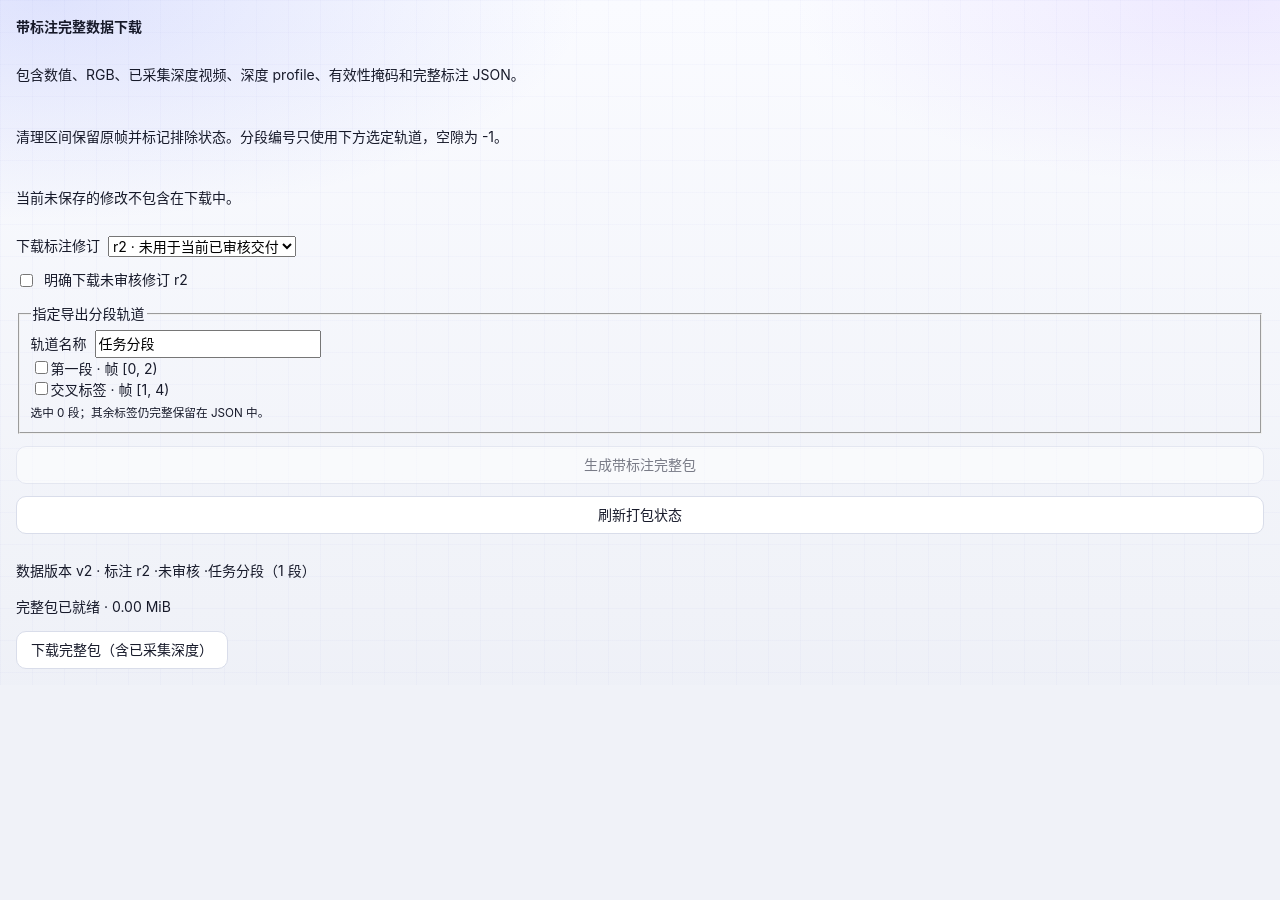
Test: rejects overlap only within the chosen track
The image size is (1280, 900).
Step 1. Click the checkbox labelled "明确下载未审核修订 r2" → (26, 280), box [20,274,33,286]
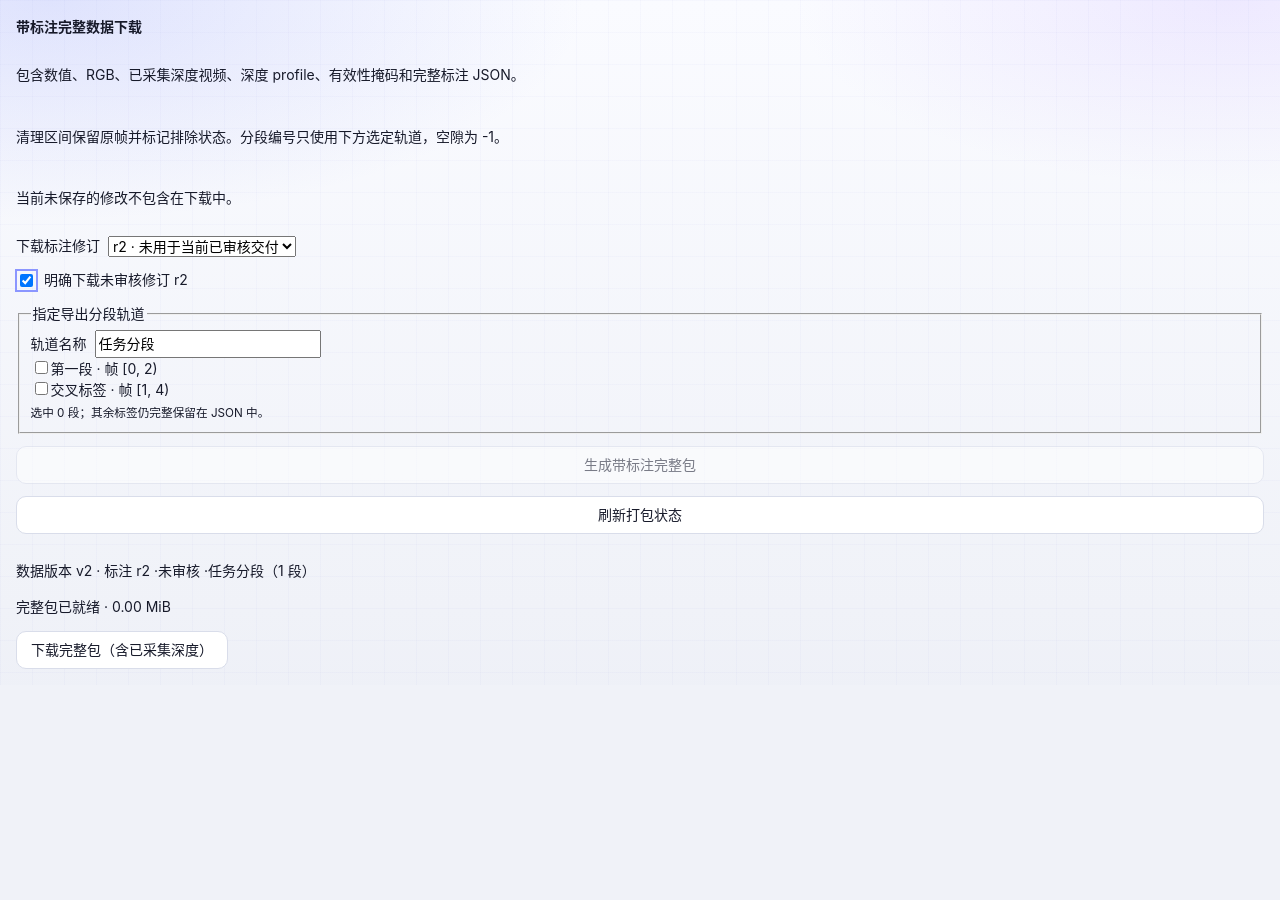
Step 2. Click the checkbox labelled "第一段 · 帧 [0, 2)" → (41, 367), box [34,360,48,374]
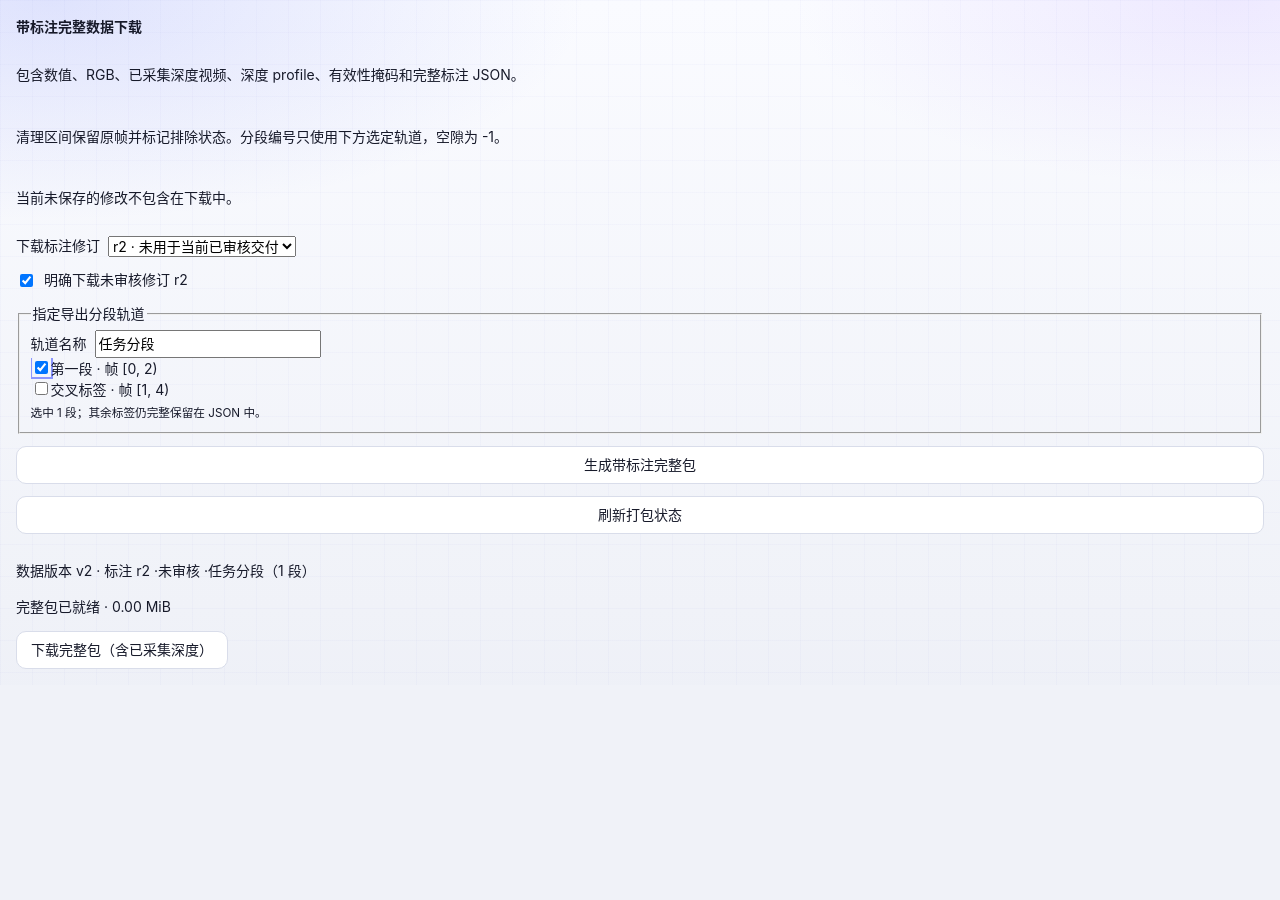
Now the button "生成带标注完整包" is enabled, box [16,446,1264,484]
Step 3. Click the checkbox labelled "交叉标签 · 帧 [1, 4)" → (41, 389), box [34,382,48,395]
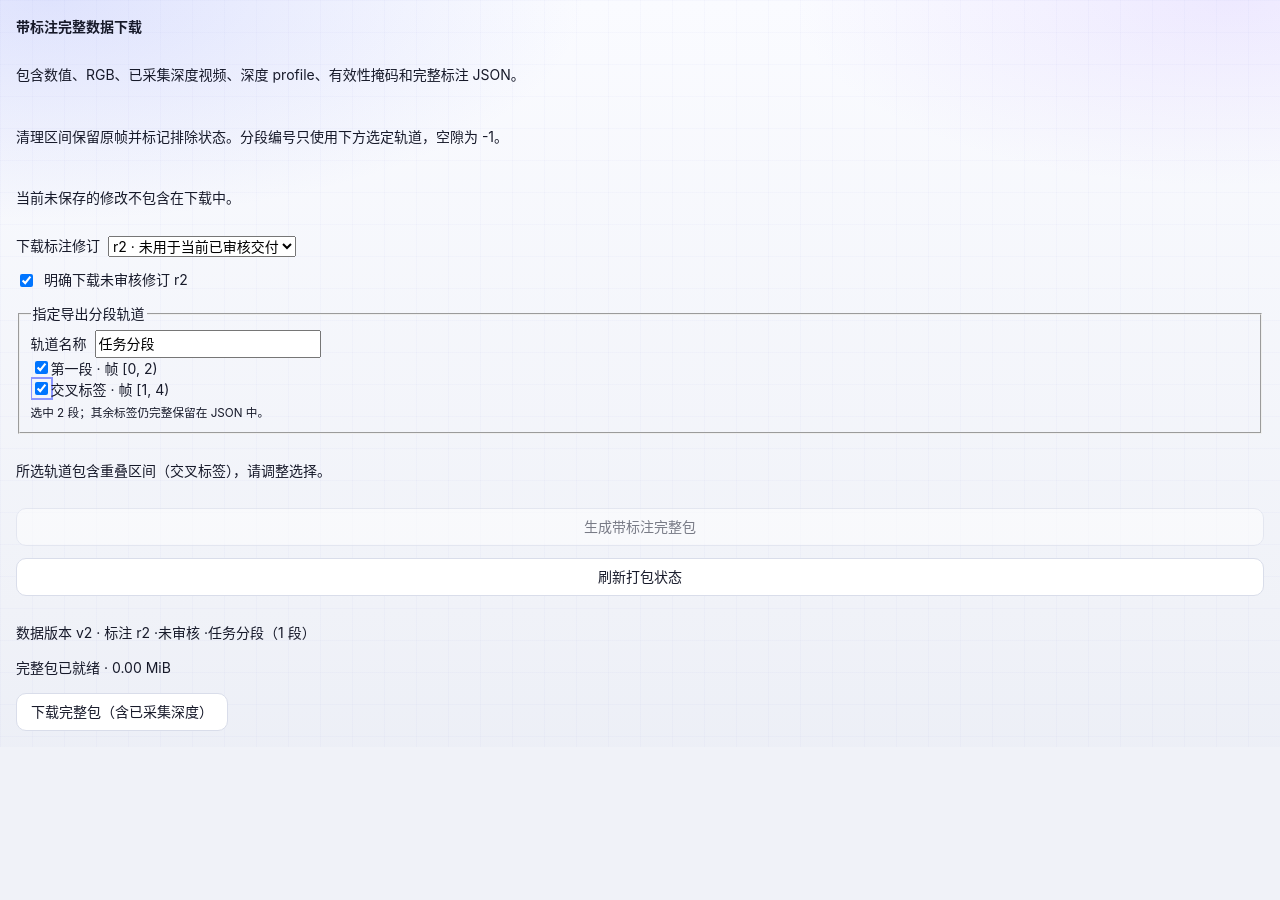
Now the message "所选轨道包含重叠区间（交叉标签），请调整选择。" is shown, box [16,462,331,479]
Now the button "生成带标注完整包" is disabled, box [16,508,1264,546]
